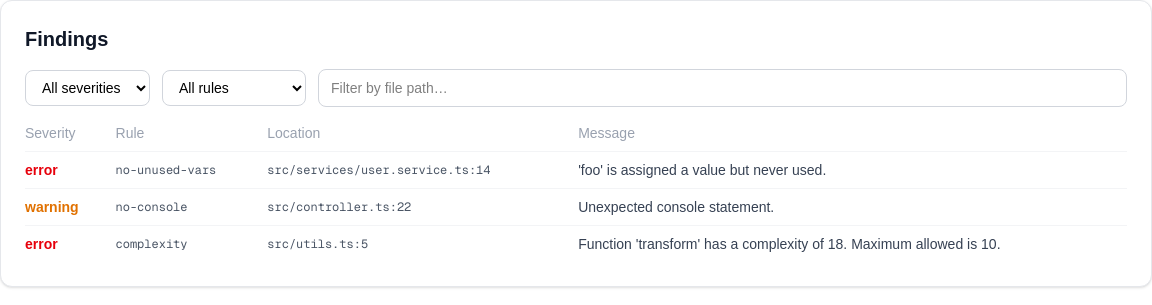
FindingsExplorer › filters findings by file path substring
Type "utils" into the field with placeholder "Filter by file path…". click: x=722, y=88
box: [318, 69, 1127, 107]
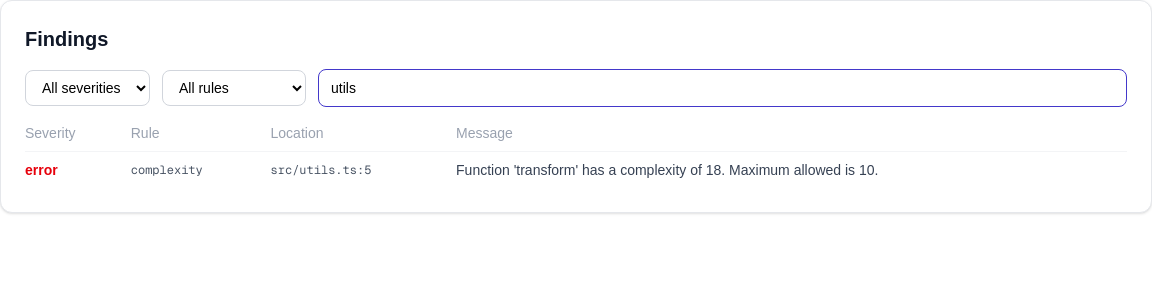
Expected: the text "Function 'transform' has a complexity" is shown, [456, 162, 878, 178]
Now the text "Unexpected console statement" is gone
